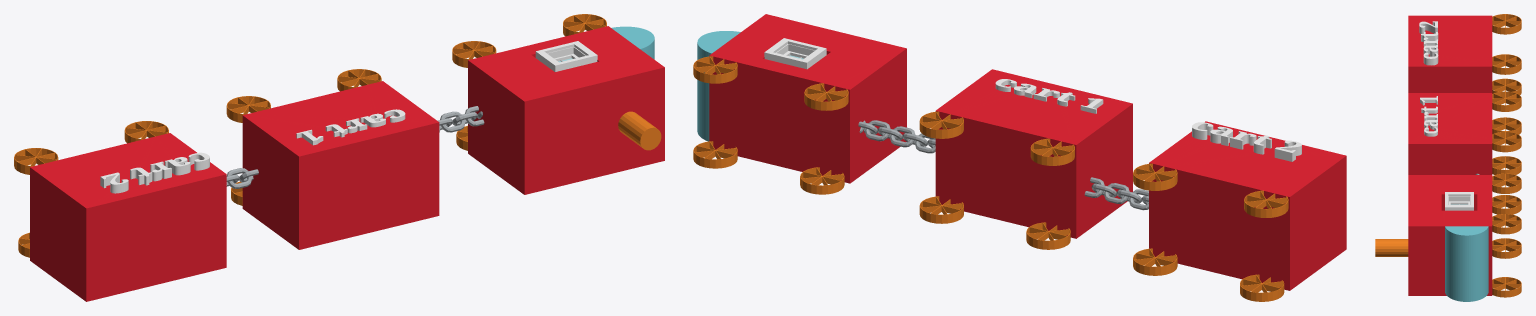
Rendered from tinker.obj.
The picture shows the model from 3 angles, left to right: view 1: azimuth 30°, elevation 25°; view 2: azimuth 150°, elevation 25°; view 3: azimuth 270°, elevation 25°; orthographic projection. The views are drawn at different scales.
Visible parts, largest first — view 1: group_0_15277357, group_0_16089887, group_0_16448250, group_0_10988977, group_0_7720667; view 2: group_0_15277357, group_0_16089887, group_0_16448250, group_0_10988977, group_0_7720667; view 3: group_0_15277357, group_0_16089887, group_0_7720667, group_0_16448250.
Part boxes in pixels (x1,y1,x2,y2): group_0_15277357: (30, 26, 664, 301); group_0_16089887: (14, 14, 661, 257); group_0_16448250: (100, 41, 597, 193); group_0_10988977: (226, 106, 484, 188); group_0_7720667: (611, 26, 654, 59); group_0_15277357: (709, 14, 1346, 290); group_0_16089887: (693, 56, 1288, 301); group_0_16448250: (764, 38, 1301, 161); group_0_10988977: (858, 120, 1148, 210); group_0_7720667: (697, 31, 740, 141); group_0_15277357: (1408, 15, 1492, 295); group_0_16089887: (1375, 14, 1521, 297); group_0_7720667: (1445, 226, 1488, 301); group_0_16448250: (1419, 21, 1473, 210).
Size of the model in its own units: 143 by 24 by 40.
